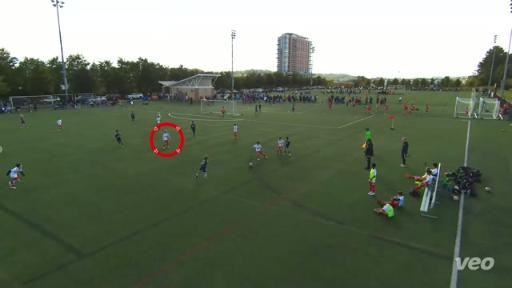highlight_overlay: (148, 121, 185, 157)
